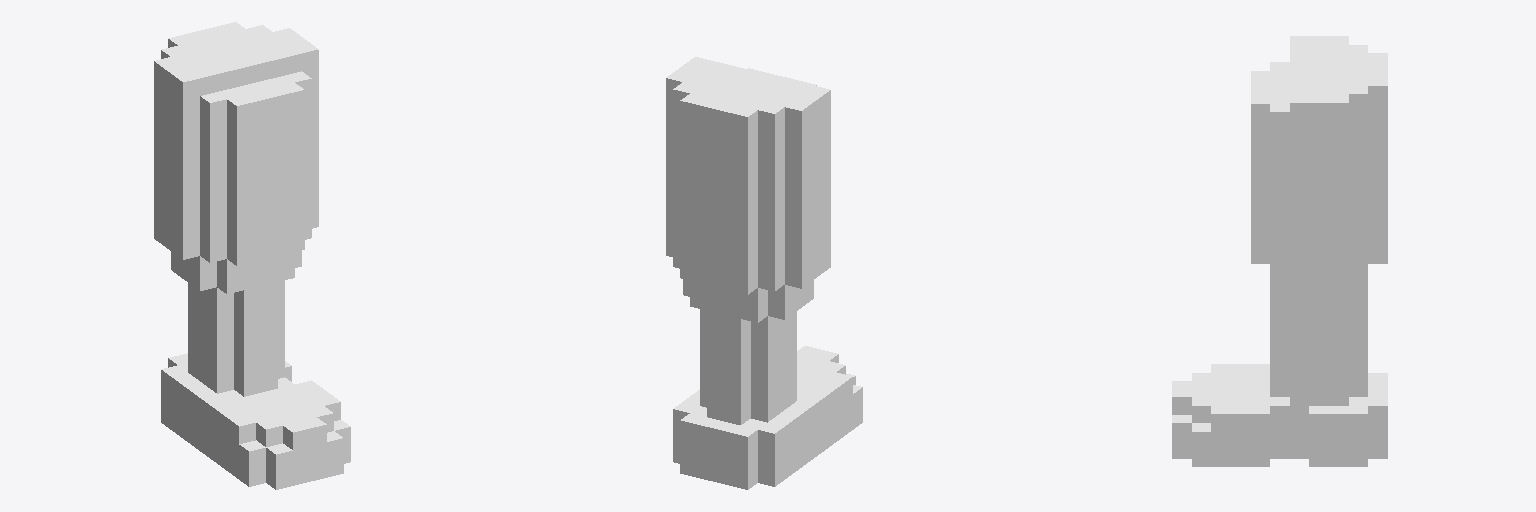
File: EnemySkeleton1-9.obj
3 views of the same model, side by side, from view 1: azimuth 30°, elevation 25°; view 2: azimuth 150°, elevation 25°; view 3: azimuth 270°, elevation 25° (orthographic).
Visible parts, largest first — view 1: object 1; view 2: object 1; view 3: object 1.
Part boxes in pixels (left/top/right/bottom): object 1: left=154, top=22, right=350, bottom=489; object 1: left=666, top=57, right=862, bottom=489; object 1: left=1172, top=36, right=1387, bottom=466.
Size of the model in its own units: 0.8 by 2.1 by 1.1.